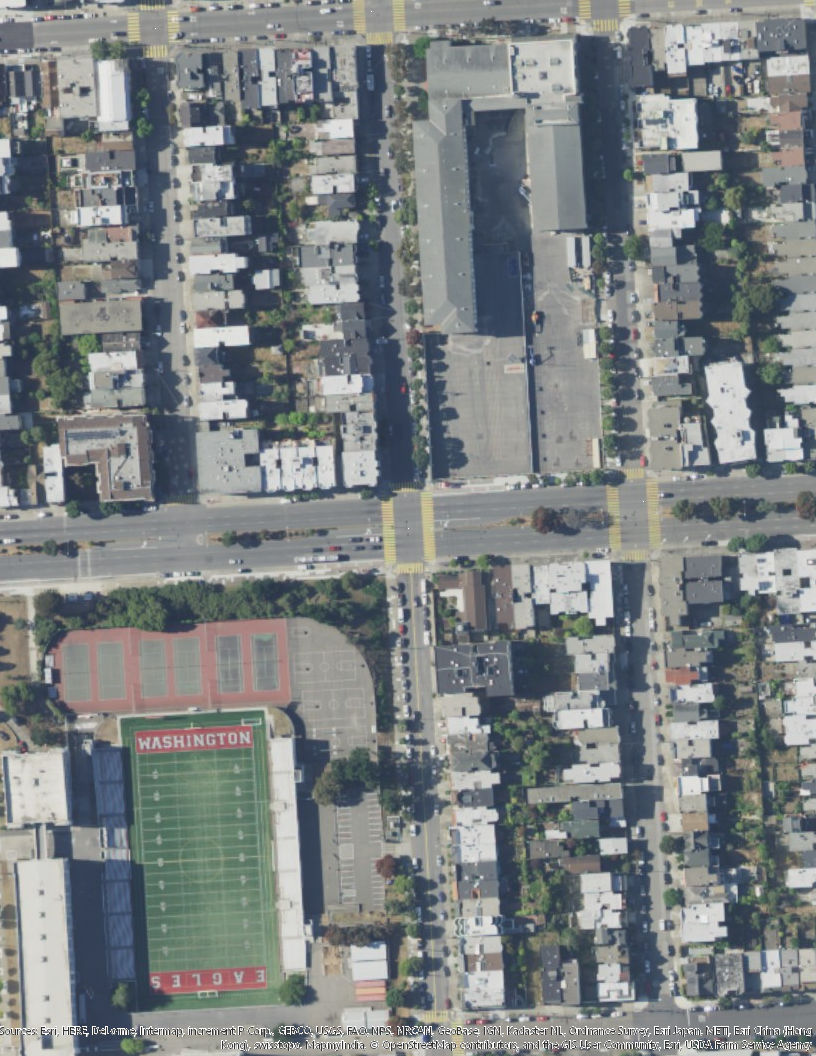zebracross: (381, 493, 398, 562), (420, 492, 437, 560), (644, 481, 661, 546), (607, 485, 623, 549), (390, 1, 407, 32), (167, 10, 182, 43), (352, 1, 367, 32), (127, 12, 142, 41), (365, 31, 393, 46), (590, 19, 621, 32), (614, 468, 647, 480), (395, 563, 425, 574), (624, 550, 651, 562), (390, 482, 420, 492), (141, 47, 169, 57), (617, 1, 633, 18), (138, 1, 165, 10), (579, 1, 592, 18)
